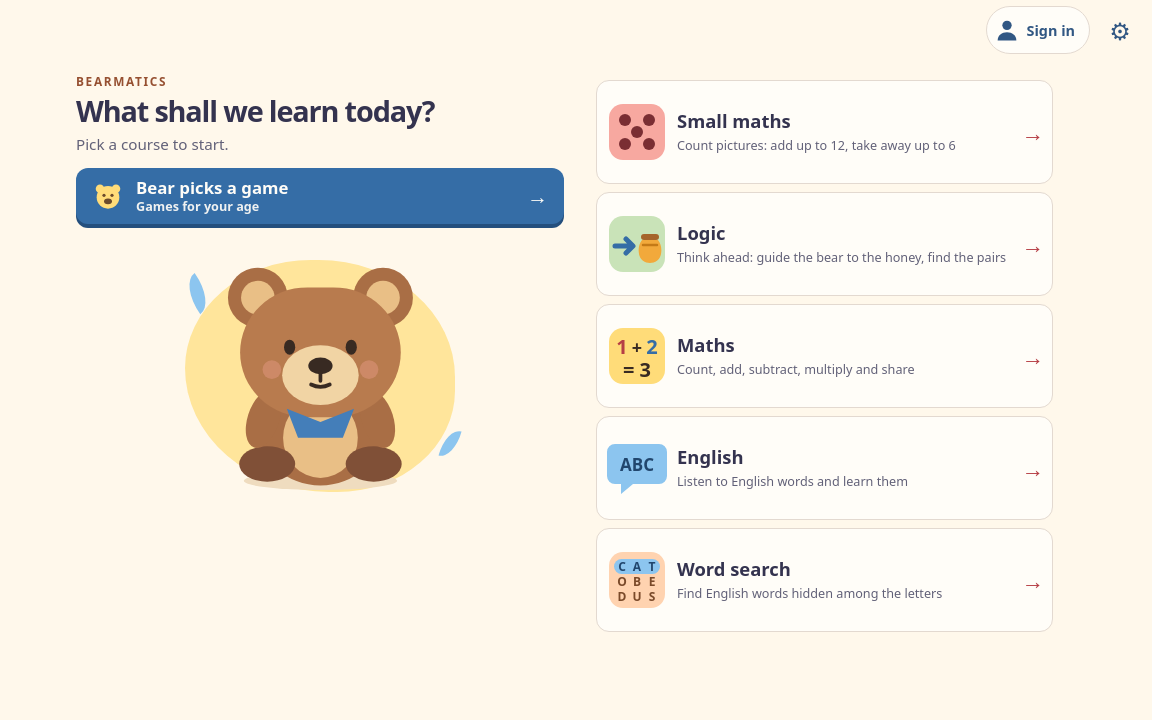
Test: the About link asks first when a lesson has unsaved work, and Stay keeps it
Step 1. Click the button "1 2 + = 3 Maths Count, add, subtract, multiply and share →" → (637, 356), box 596,304 -> 1053,408
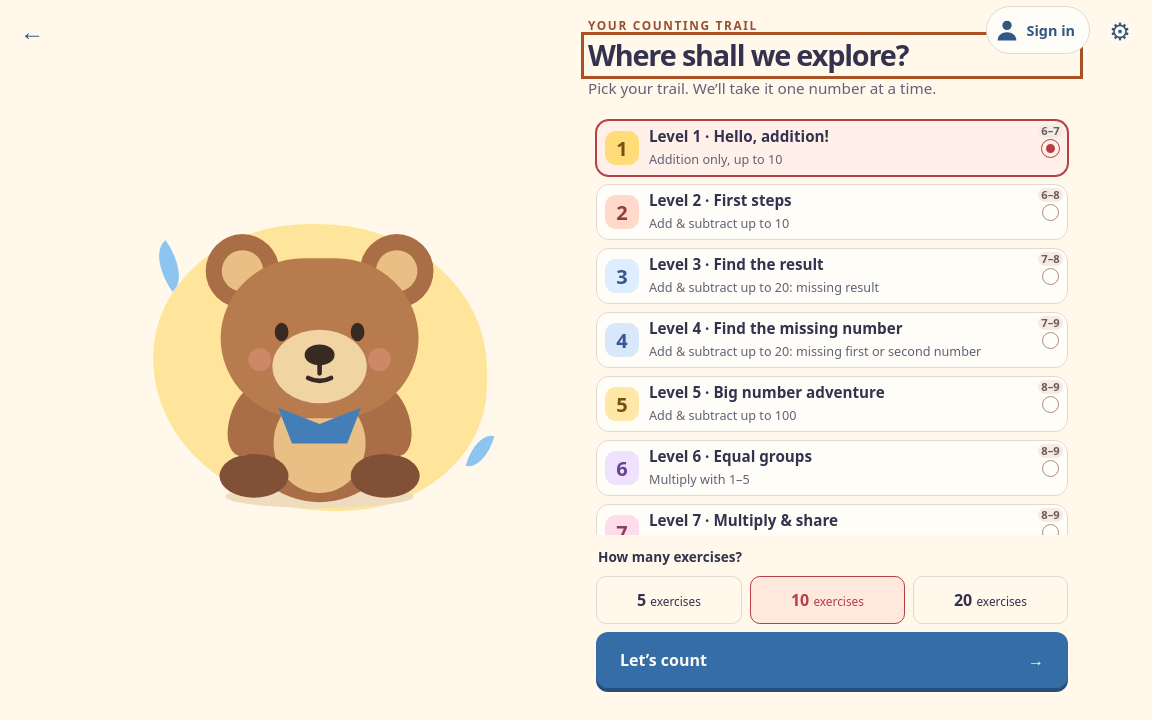
Step 2. Click the button "Let’s count →" → (663, 660), box 596,632 -> 1068,688
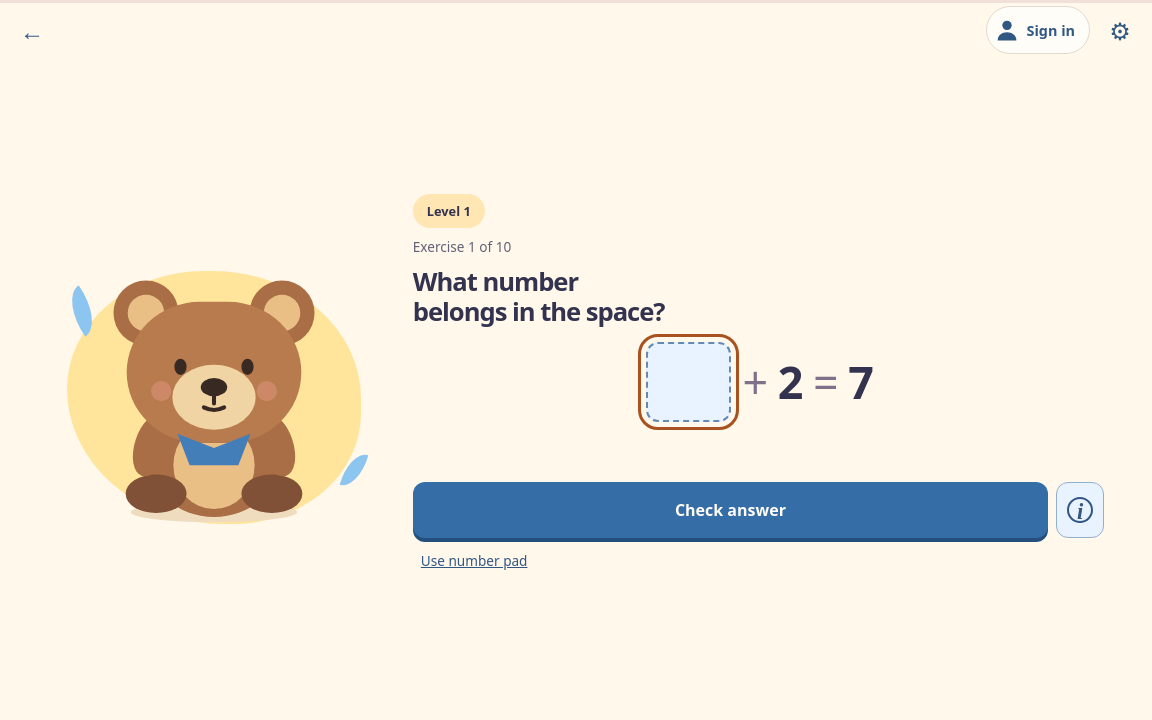
Step 3. Type "7" into the field → (688, 382), box 646,342 -> 731,422
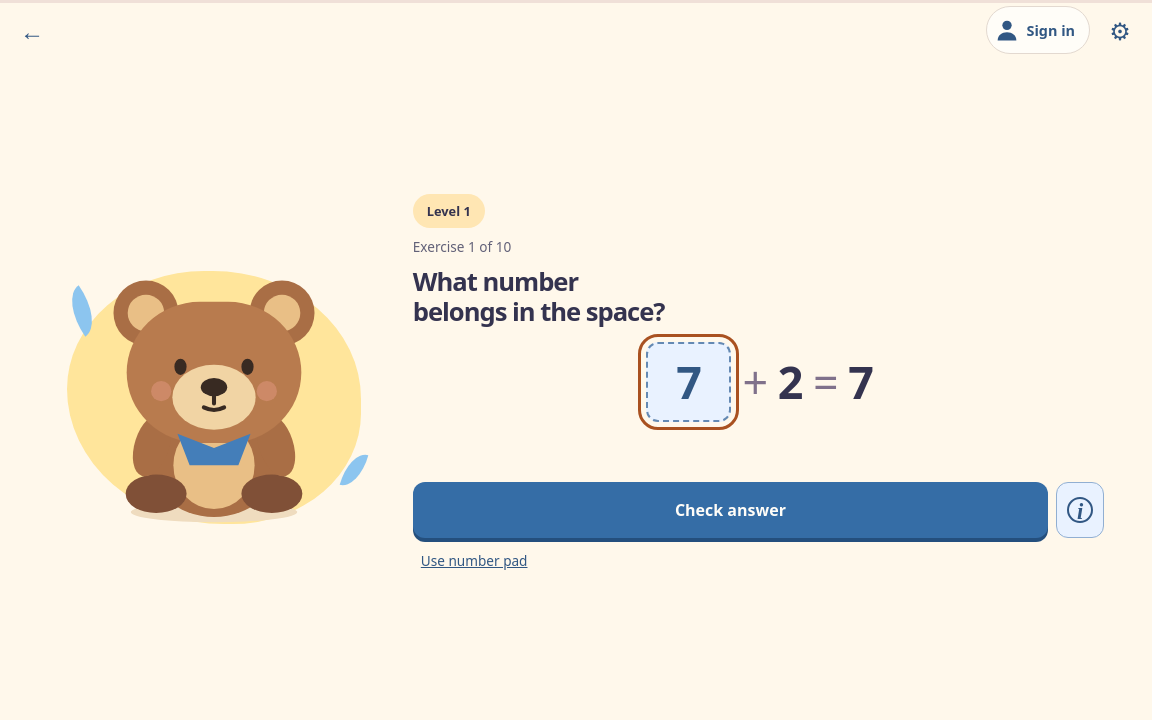
Step 4. Click the button named "Settings" → (1120, 30), box 1096,6 -> 1144,54
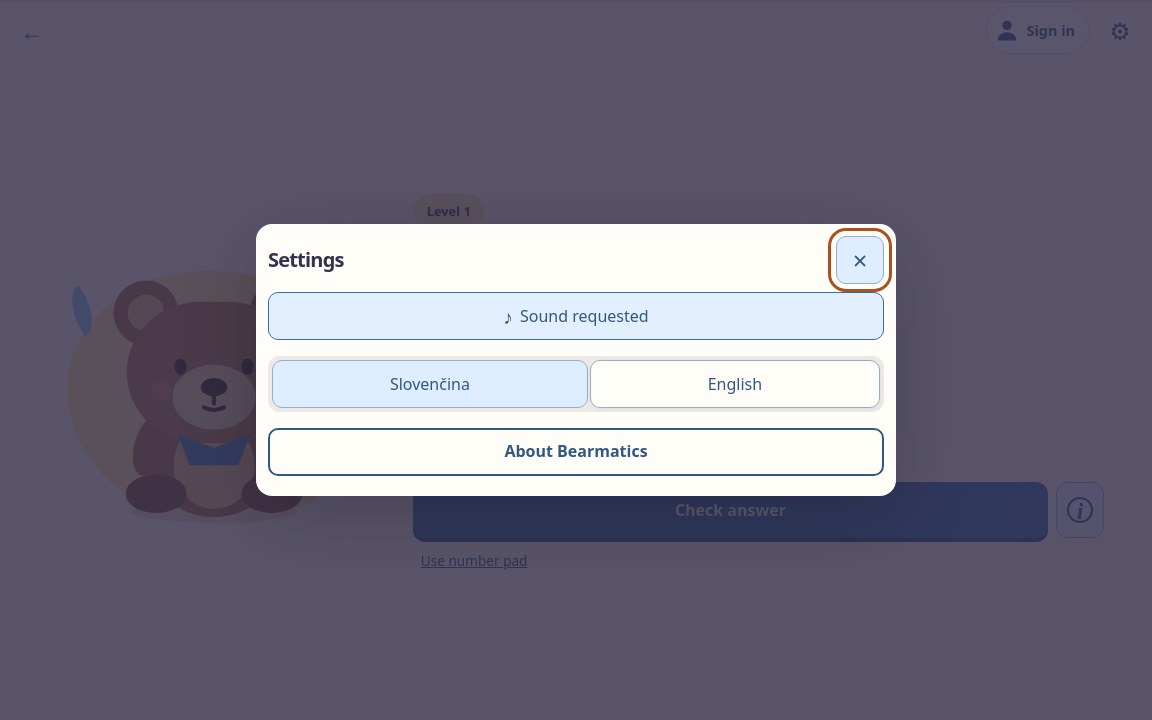
Step 5. Click the link "About Bearmatics" → (576, 452), box 268,428 -> 884,476
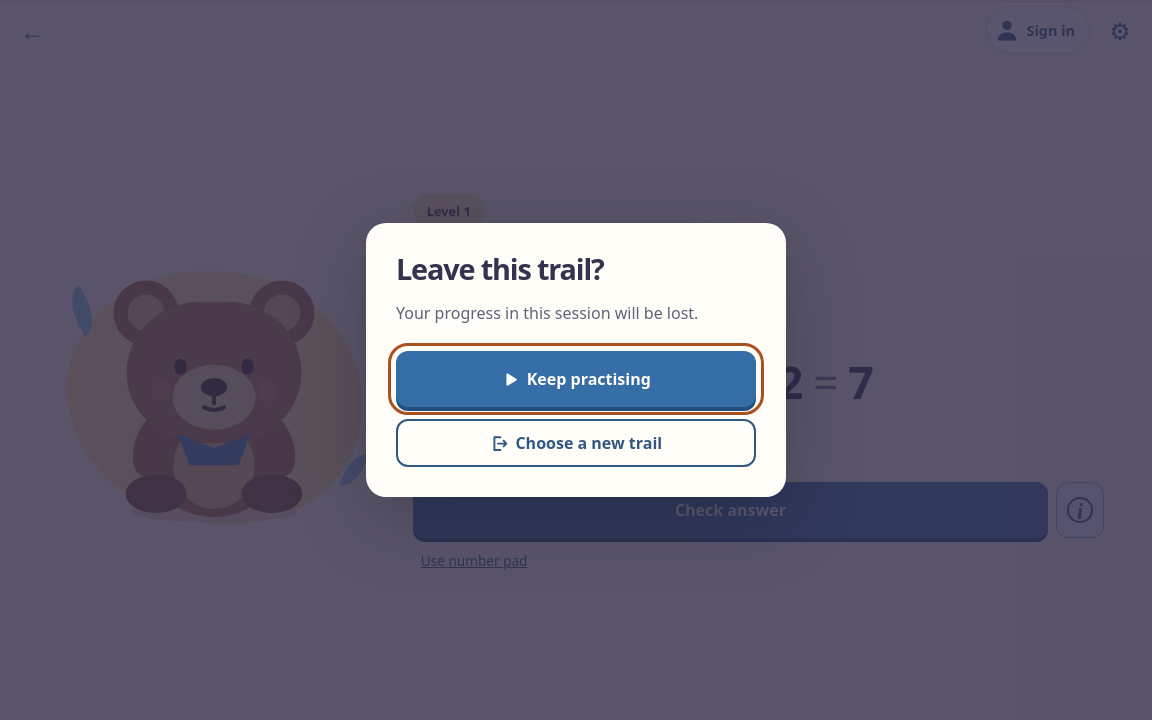
Expected: the heading "Settings" is gone
Expected: the dialog "Leave this trail?" is shown, 366,223 -> 786,497
Step 6. Click the button "Keep practising" → (576, 379), box 396,351 -> 756,407
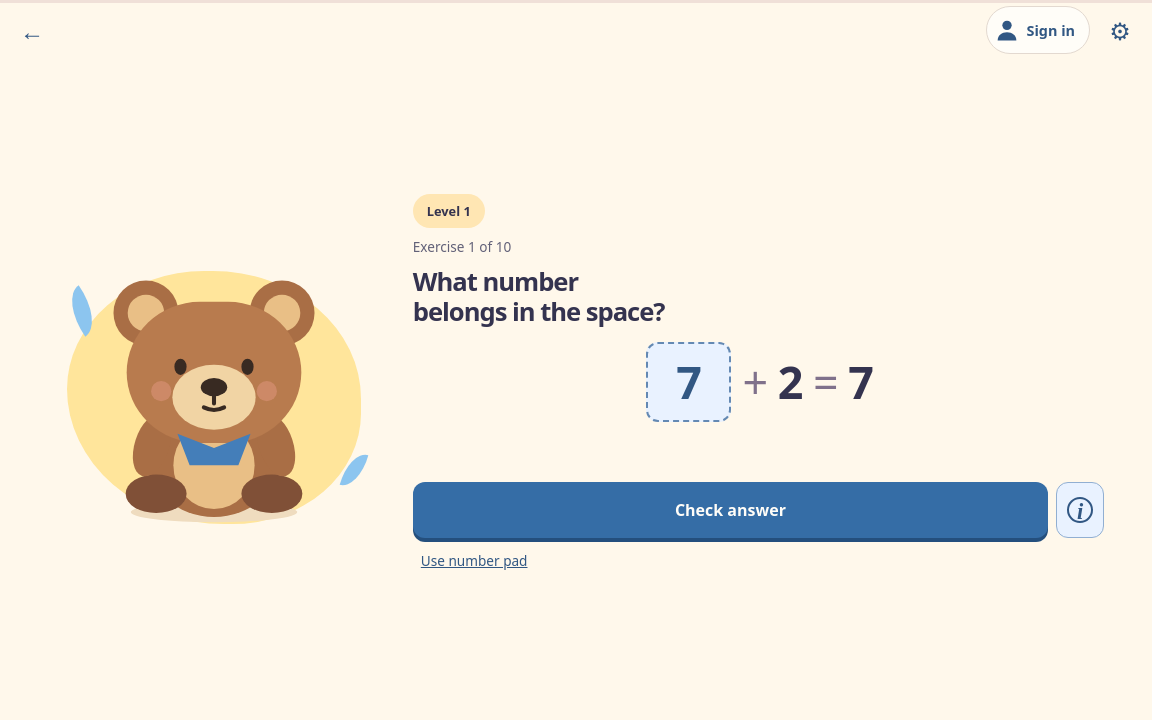
Expected: the dialog is gone
